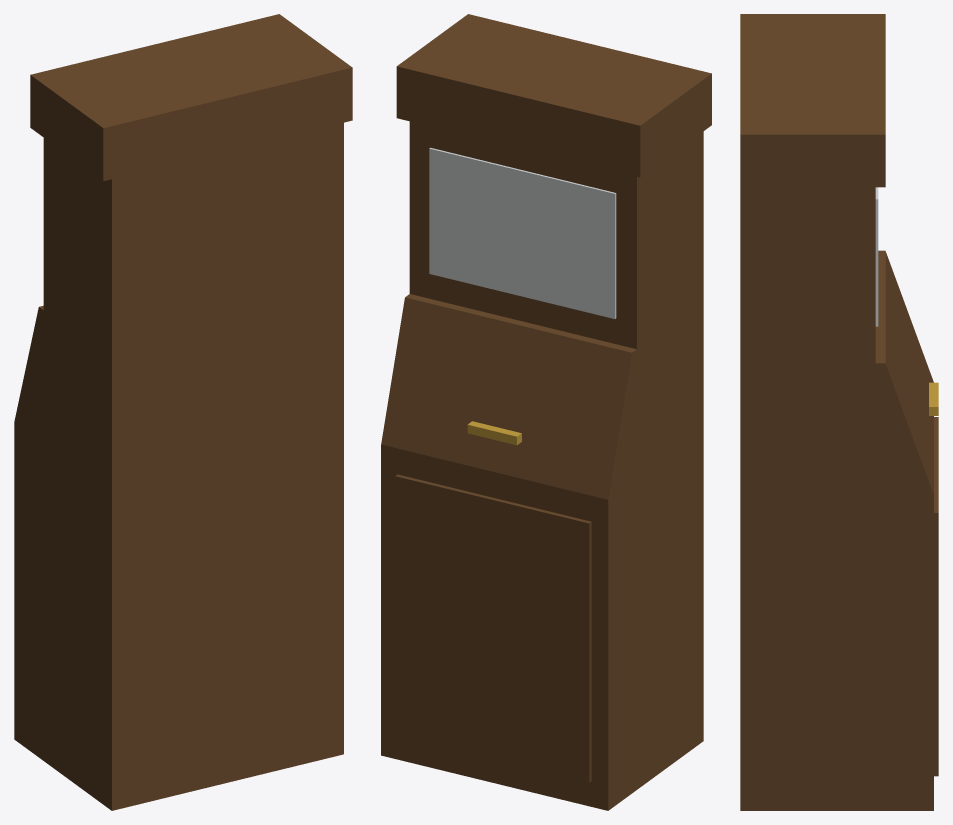
File: parametric-folding_lavatory-1st-pub.glb
3 renders of one model, left to right at view 1: azimuth 30°, elevation 25°; view 2: azimuth 150°, elevation 25°; view 3: azimuth 270°, elevation 25°, orthographic. The views are drawn at different scales.
Parts seen in each view (by area): view 1: parametric-folding_lavatory-1st-pub; view 2: parametric-folding_lavatory-1st-pub; view 3: parametric-folding_lavatory-1st-pub.
Boxes of the visible parts, box(x1,y1,x2,y2) form: parametric-folding_lavatory-1st-pub: box(14, 14, 352, 810); parametric-folding_lavatory-1st-pub: box(381, 14, 711, 810); parametric-folding_lavatory-1st-pub: box(740, 14, 938, 810).
Size of the model in its own units: 0.59 by 1.55 by 0.41.
